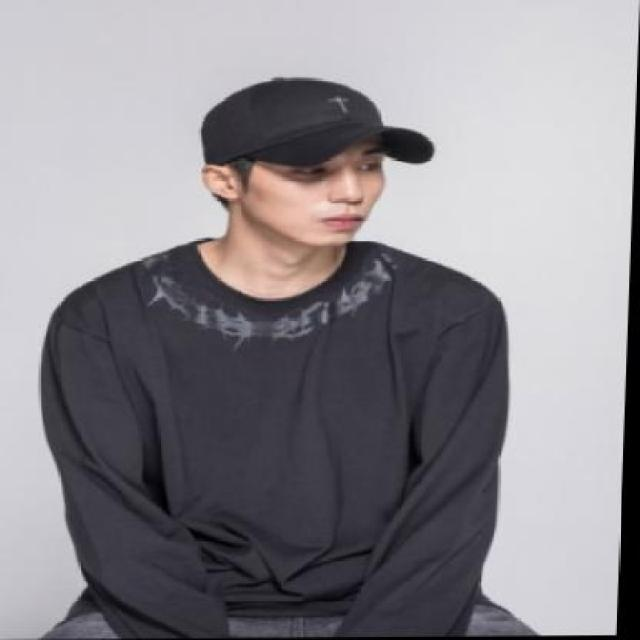hat: (204, 77, 438, 174)
